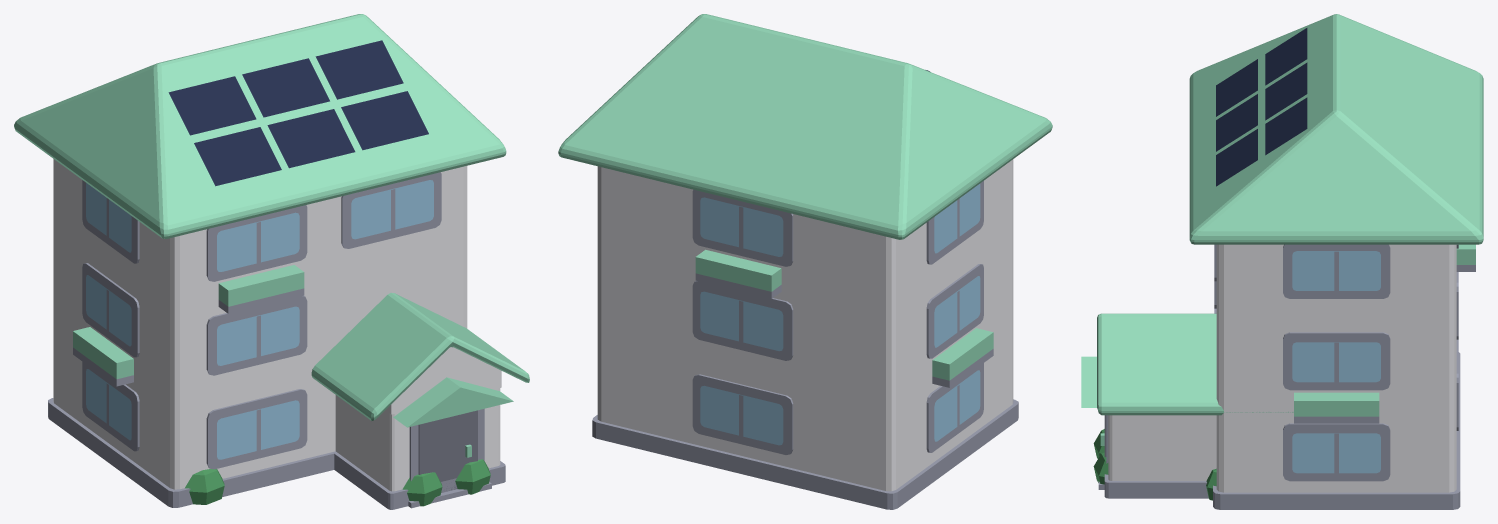
Rendered from house-1x1-3f-mansard-a-solar.glb.
3 renders of one model, left to right at view 1: azimuth 30°, elevation 25°; view 2: azimuth 150°, elevation 25°; view 3: azimuth 270°, elevation 25°, orthographic. The views are drawn at different scales.
Visible parts, largest first — view 1: house-1x1-3f-mansard-a-solar; view 2: house-1x1-3f-mansard-a-solar; view 3: house-1x1-3f-mansard-a-solar.
Boxes of the visible parts, x1,y1,x2,y2 form: house-1x1-3f-mansard-a-solar: [14, 14, 529, 509]; house-1x1-3f-mansard-a-solar: [558, 14, 1052, 509]; house-1x1-3f-mansard-a-solar: [1081, 14, 1483, 509].
Size of the model in its own units: 1 by 1.07 by 1.04.
Materials: 1 (1 with a texture image).
